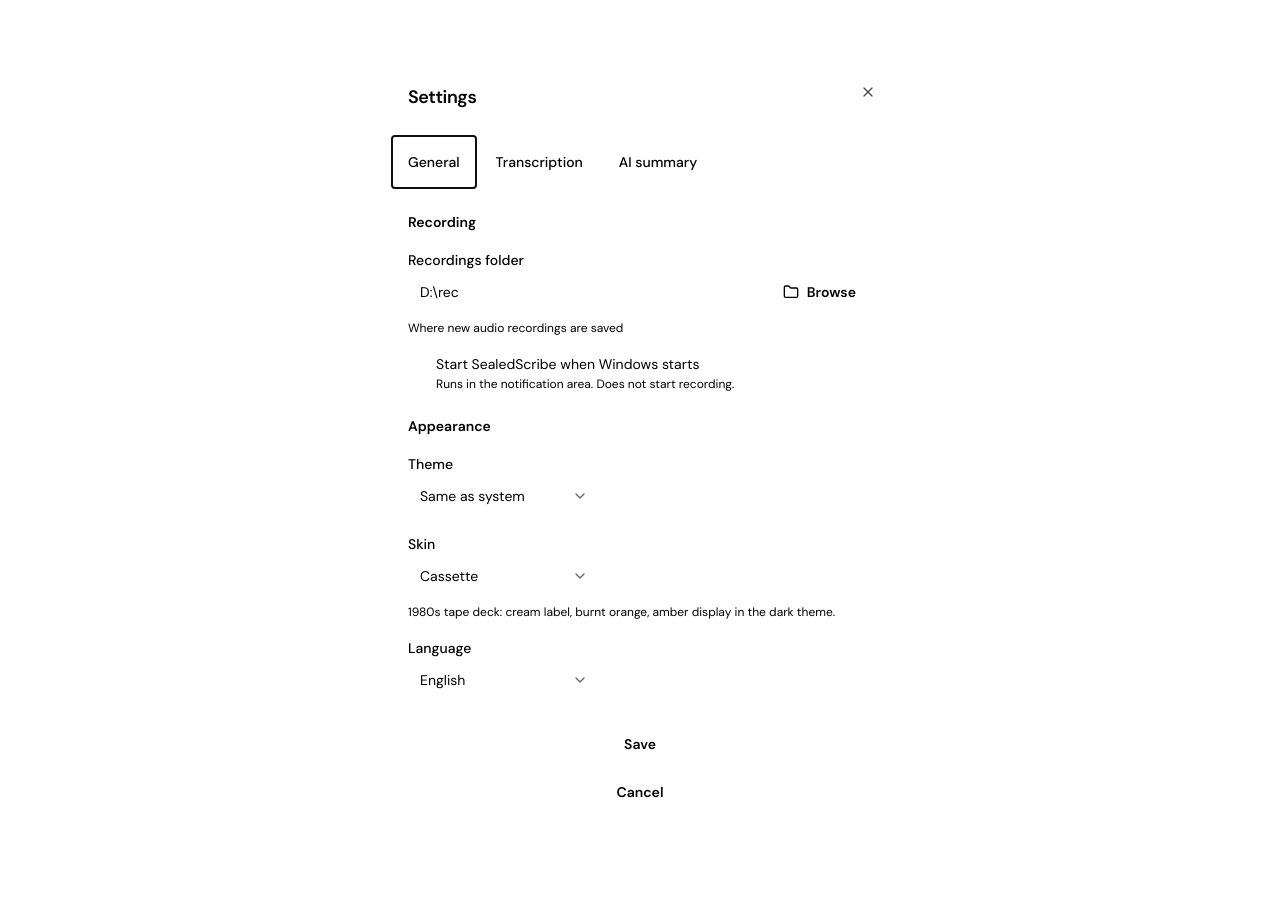
SettingsModal — résumé par un modèle local › liste les modèles déjà installés dans Ollama et dit si le modèle choisi tient sur la carte
Click the tab "AI summary".
click(658, 162)  # box [603, 136, 713, 188]
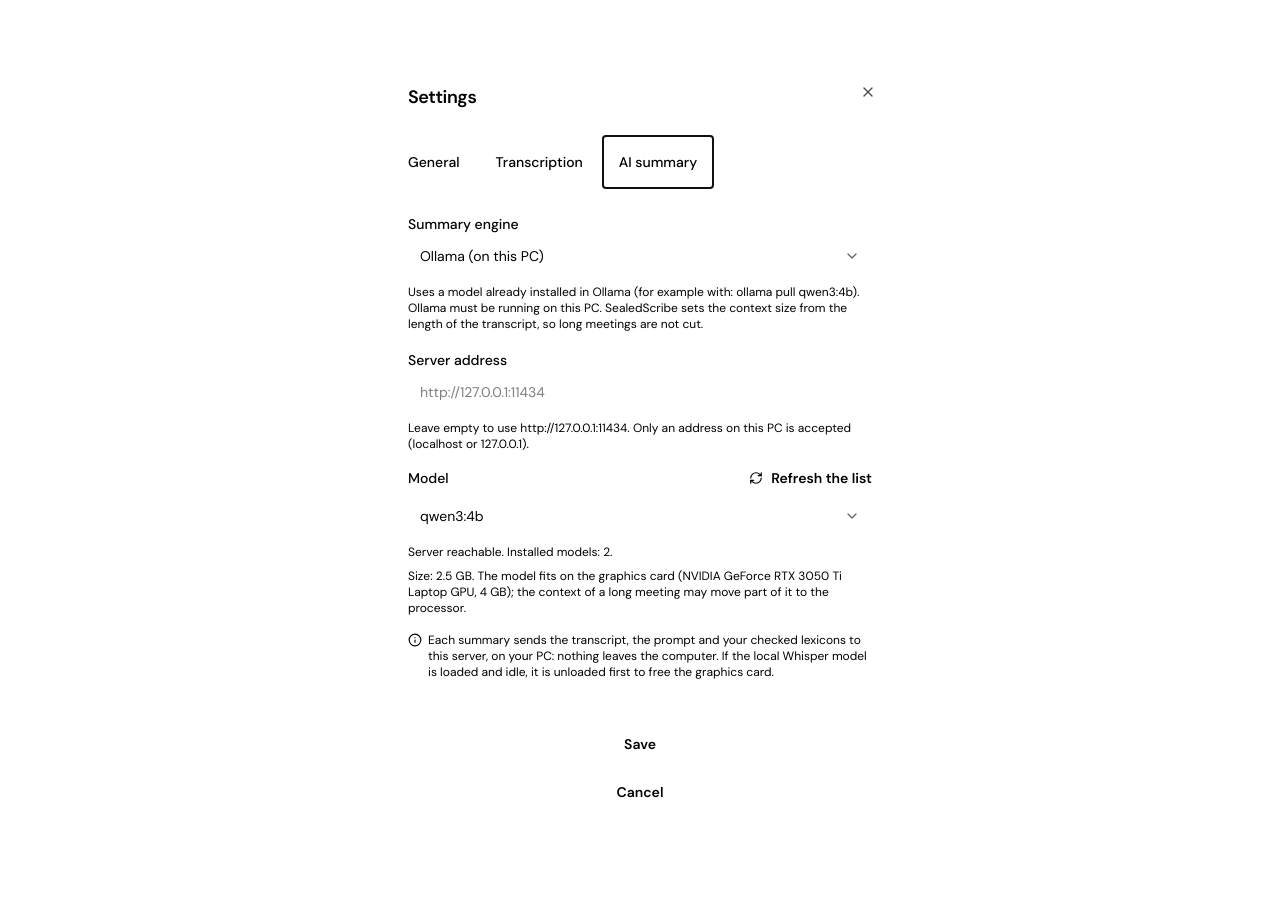
Expected: the text "Server reachable. Installed models: 2." is shown, [408, 544, 612, 560]
Expected: the dropdown named "Model" reads "qwen3:4b", [408, 496, 872, 536]
Expected: the text "Size: 2.5 GB. The model fits on the graphics card (NVIDIA GeForce RTX 3050 Ti Laptop GPU" is shown, [408, 568, 842, 616]
